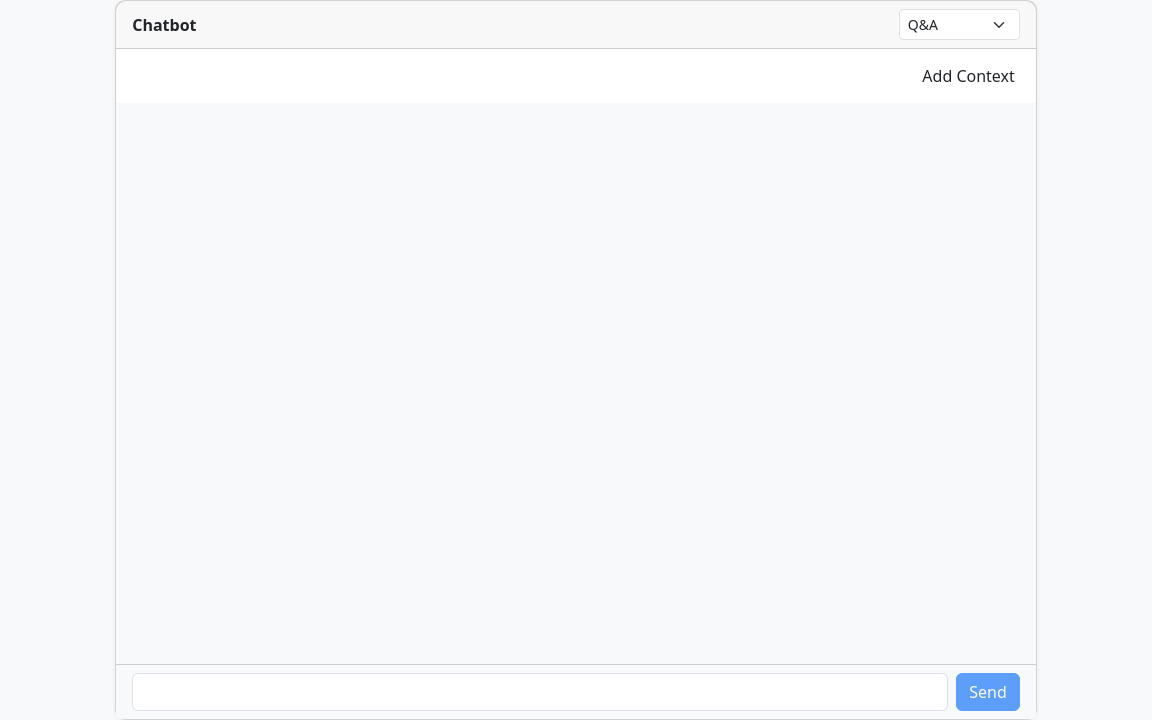
it: ChatUI › displays user and bot messages
Note: Simulate user input
Type "Hello!" into the field named "Type your message" at (540, 692), box [132,673,948,711]
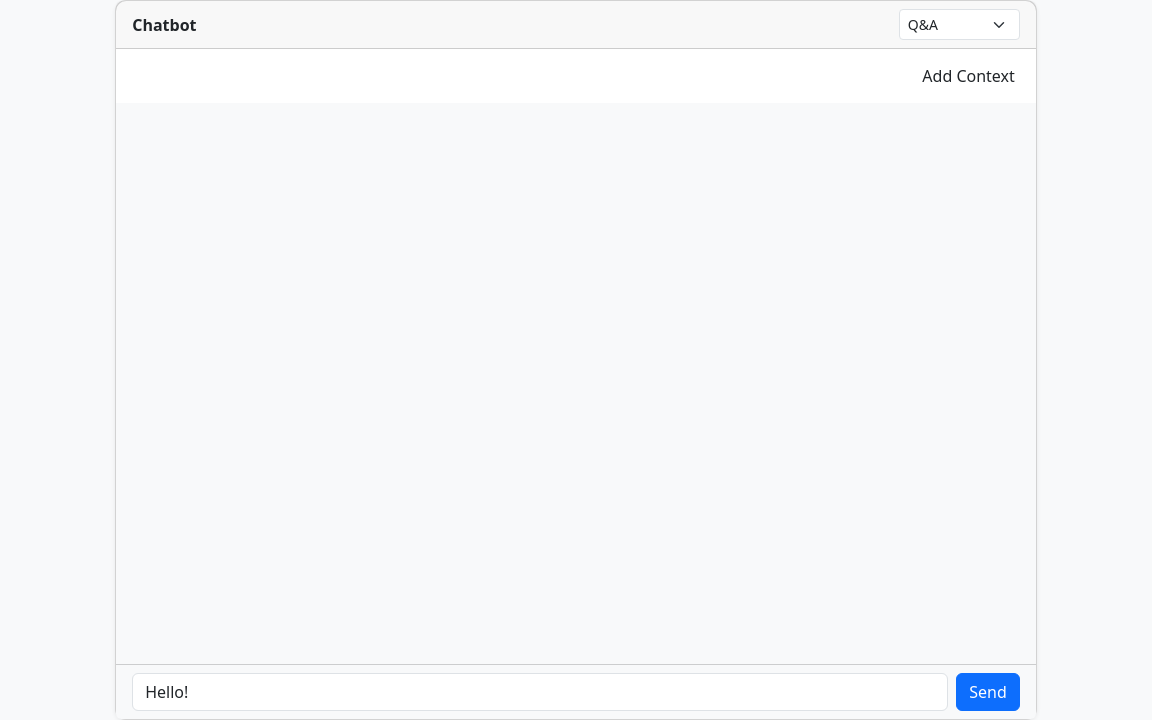
Submit the form, box [132,673,1020,711]
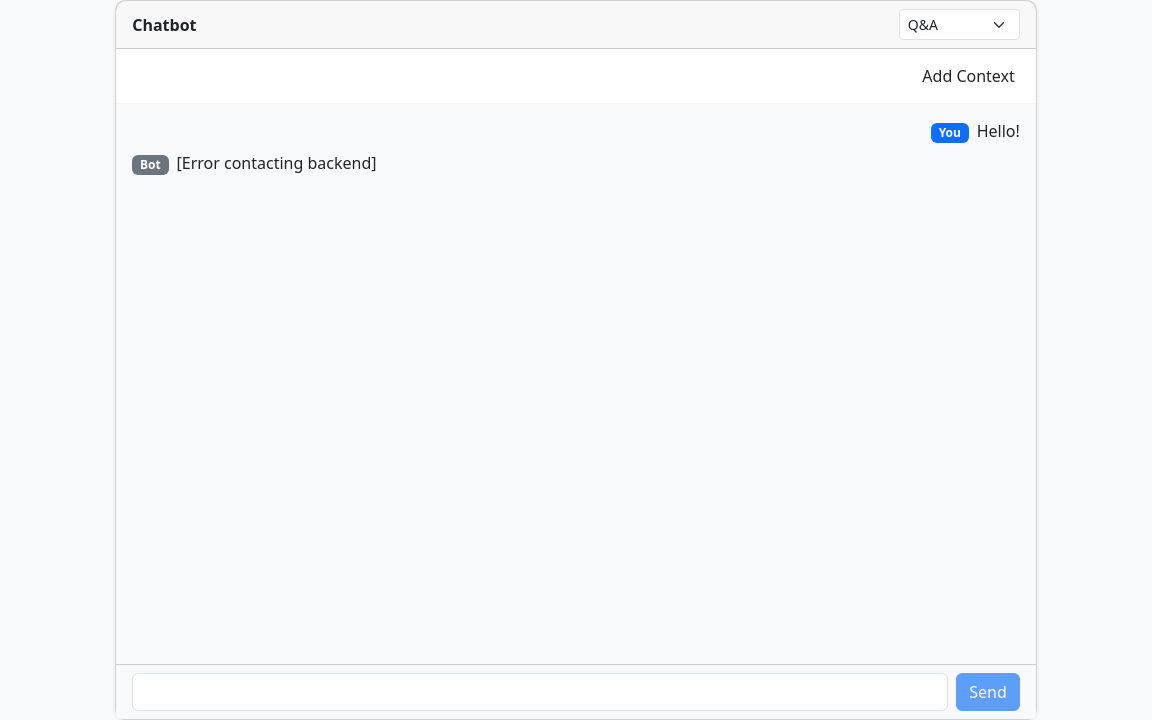
Check: the text "bot" is shown, box [132,12,196,36]
Check: the text "You" is shown, box [931,123,969,143]
